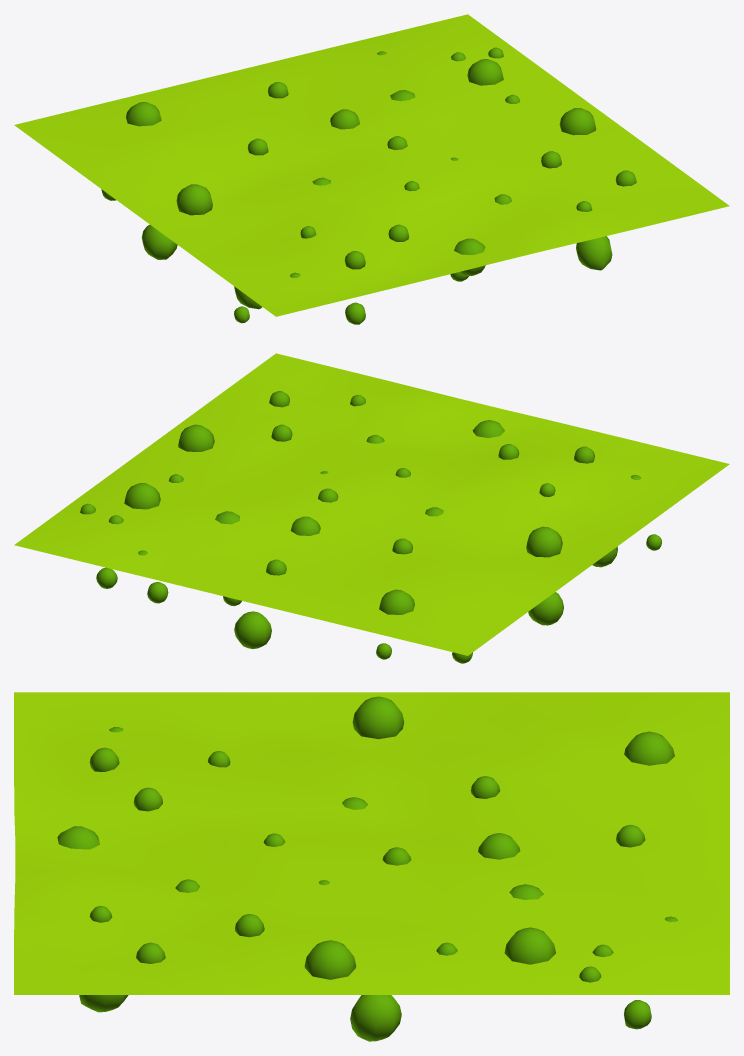
Rendered from floor.fbx.
3 renders of one model, top to bottom at view 1: azimuth 30°, elevation 25°; view 2: azimuth 150°, elevation 25°; view 3: azimuth 270°, elevation 25°, orthographic. The views are drawn at different scales.
Visible parts, largest first — view 1: floor; view 2: floor; view 3: floor.
Part boxes in pixels (<box>): floor: <box>14,14,729,324</box>; floor: <box>14,353,729,663</box>; floor: <box>14,692,729,1041</box>.
Bounding box in the file's own units: 6 × 1.07 × 6.
